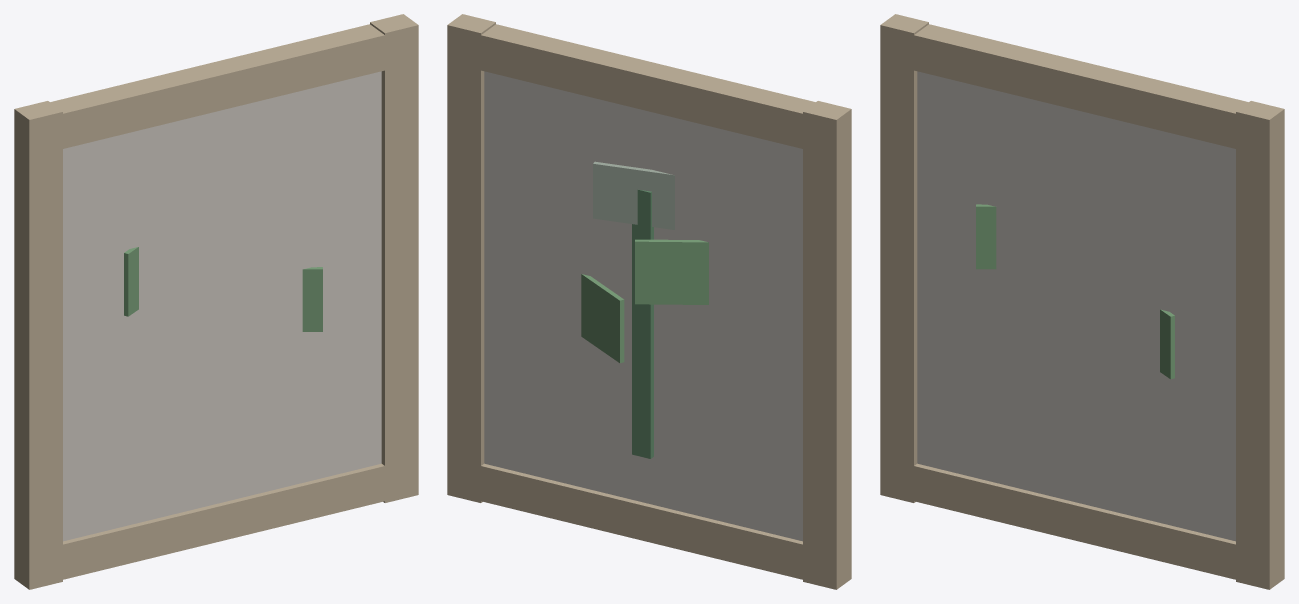
Rendered from arte_planta_quadro.glb.
The picture shows the model from 3 angles, left to right: view 1: azimuth 30°, elevation 25°; view 2: azimuth 150°, elevation 25°; view 3: azimuth 330°, elevation 25°; orthographic projection.
Visible parts, largest first — view 1: ARTE_PLANTA_QUADRO_v01; view 2: ARTE_PLANTA_QUADRO_v01; view 3: ARTE_PLANTA_QUADRO_v01.
Part boxes in pixels (x1,y1,x2,y2): ARTE_PLANTA_QUADRO_v01: (14, 14, 418, 589); ARTE_PLANTA_QUADRO_v01: (447, 14, 851, 589); ARTE_PLANTA_QUADRO_v01: (880, 14, 1284, 589).
Bounding box in the file's own units: 0.52 × 0.6 × 0.0724.
